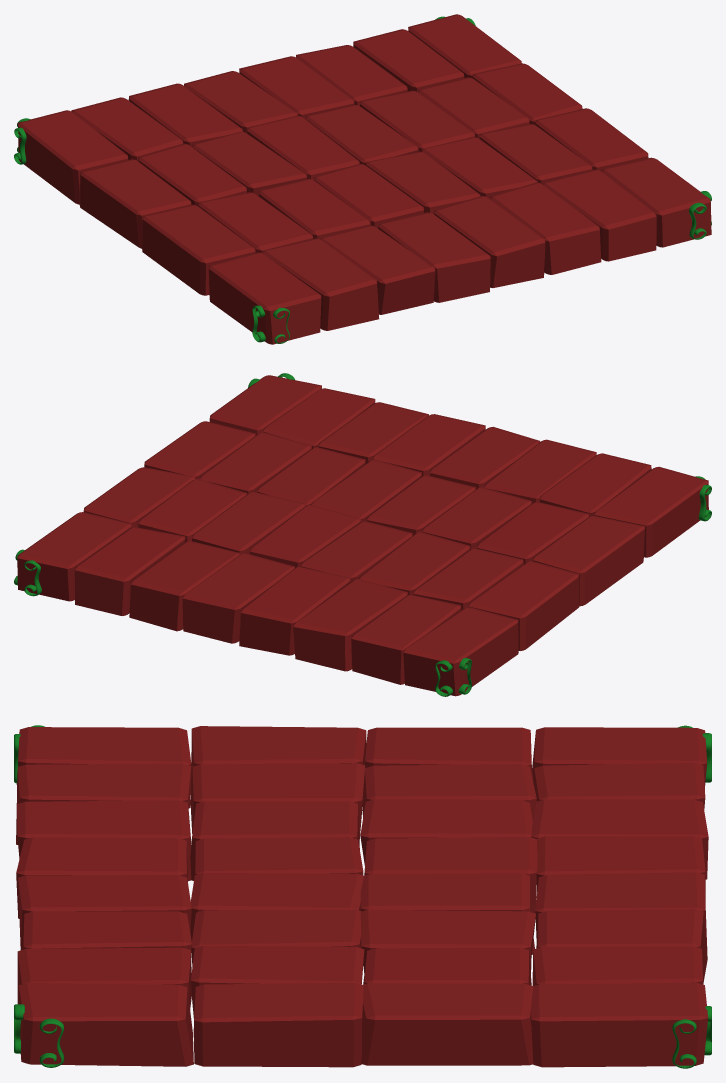
Rendered from Textured Platform.fbx.
3 renders of one model, top to bottom at view 1: azimuth 30°, elevation 25°; view 2: azimuth 150°, elevation 25°; view 3: azimuth 270°, elevation 25°, orthographic. The views are drawn at different scales.
Visible parts, largest first — view 1: Cube, CurlyCurve.001; view 2: Cube, CurlyCurve.001; view 3: Cube, CurlyCurve.001.
Boxes of the visible parts, <box> form: Cube: <box>17,14,711,344</box>; CurlyCurve.001: <box>14,16,711,343</box>; Cube: <box>17,375,708,696</box>; CurlyCurve.001: <box>14,373,711,696</box>; Cube: <box>16,726,708,1067</box>; CurlyCurve.001: <box>14,725,711,1068</box>.
Size of the model in its own units: 816 by 66.51 by 802.
